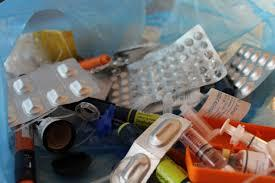Iv_Bottle: (180, 128, 226, 168), (228, 150, 272, 174)
